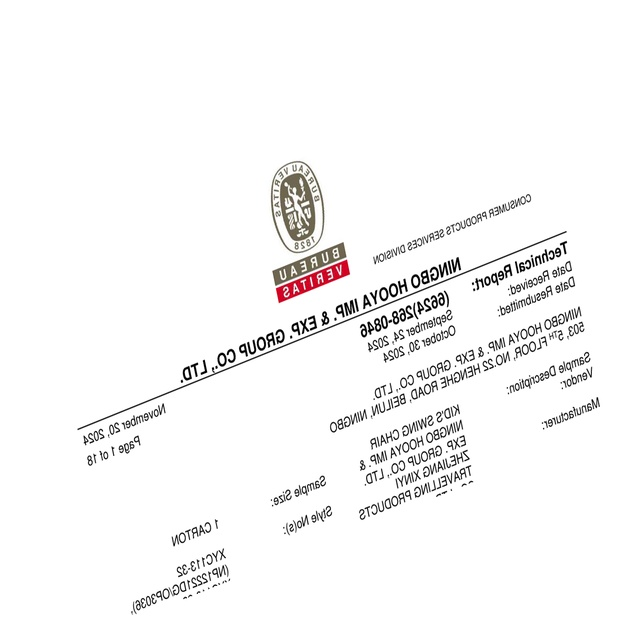bureau_veritas: (270, 160, 351, 303)
